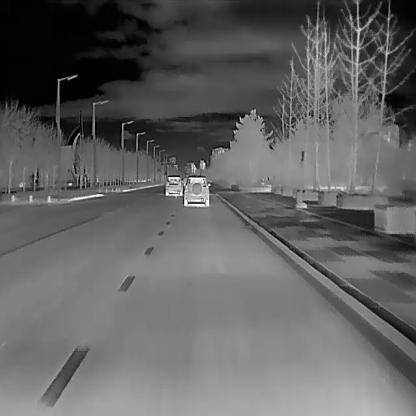car: (183, 175, 210, 207), (165, 174, 182, 196)
